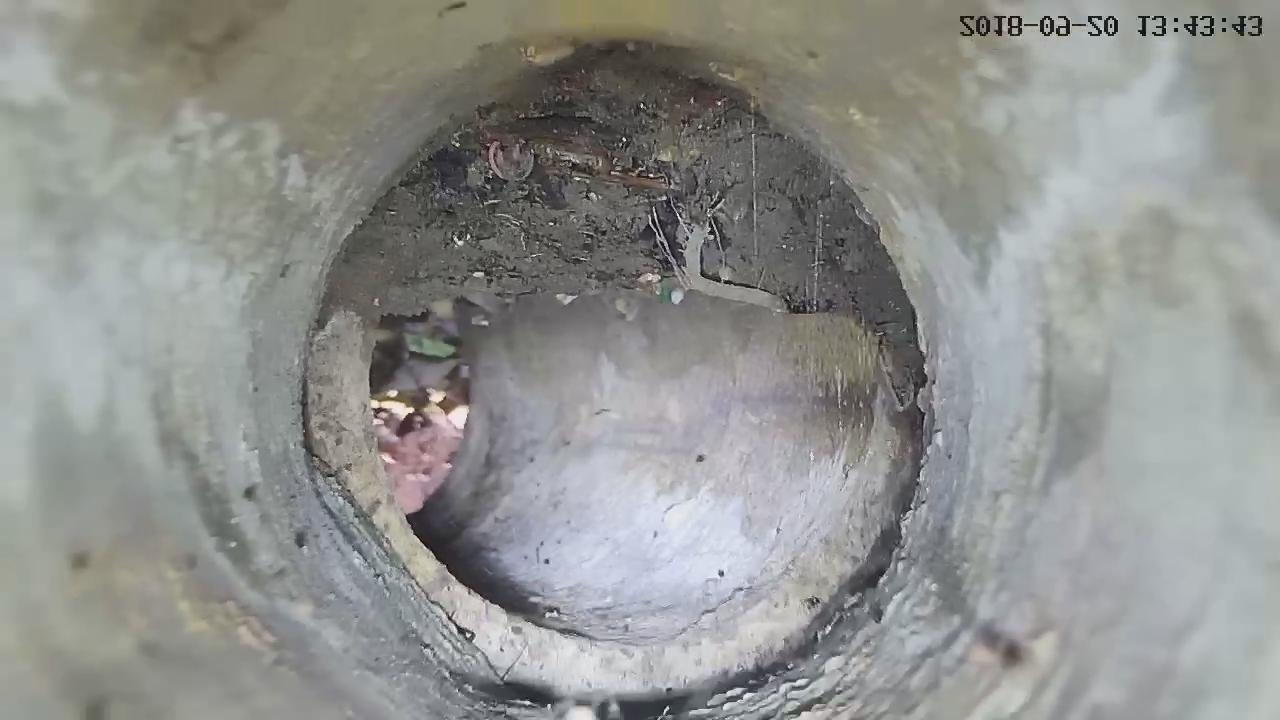CJ: (322, 46, 918, 394)
CKTJ: (289, 279, 941, 716)
